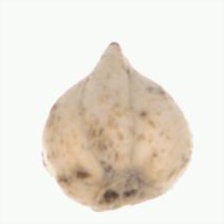L3: (92, 41, 138, 71)
L4: (42, 44, 192, 209)
